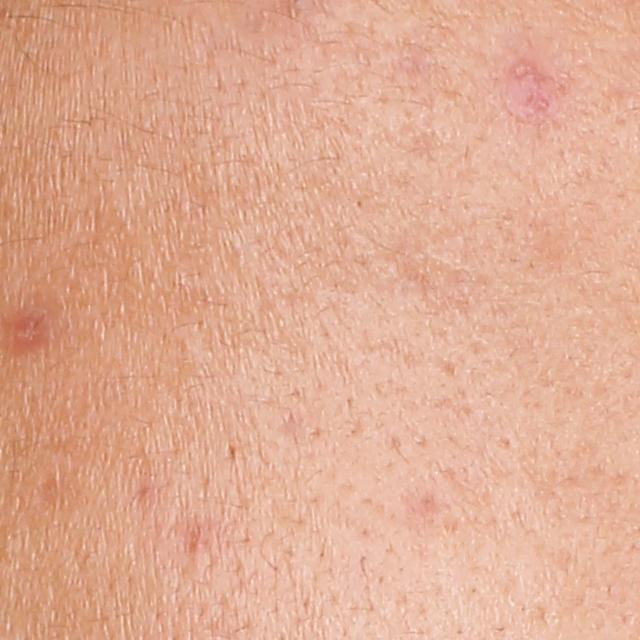papule: (488, 53, 556, 123)
